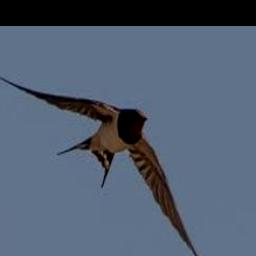Swallow: (0, 75, 212, 256)
